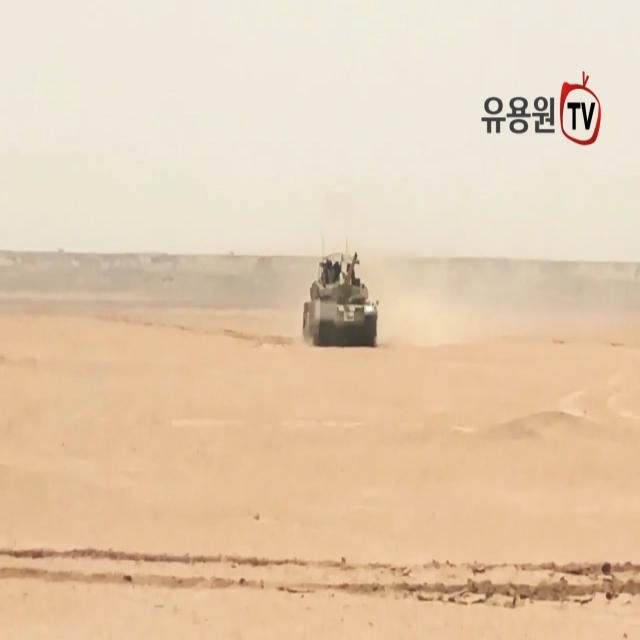korea tank: (300, 248, 380, 349)
